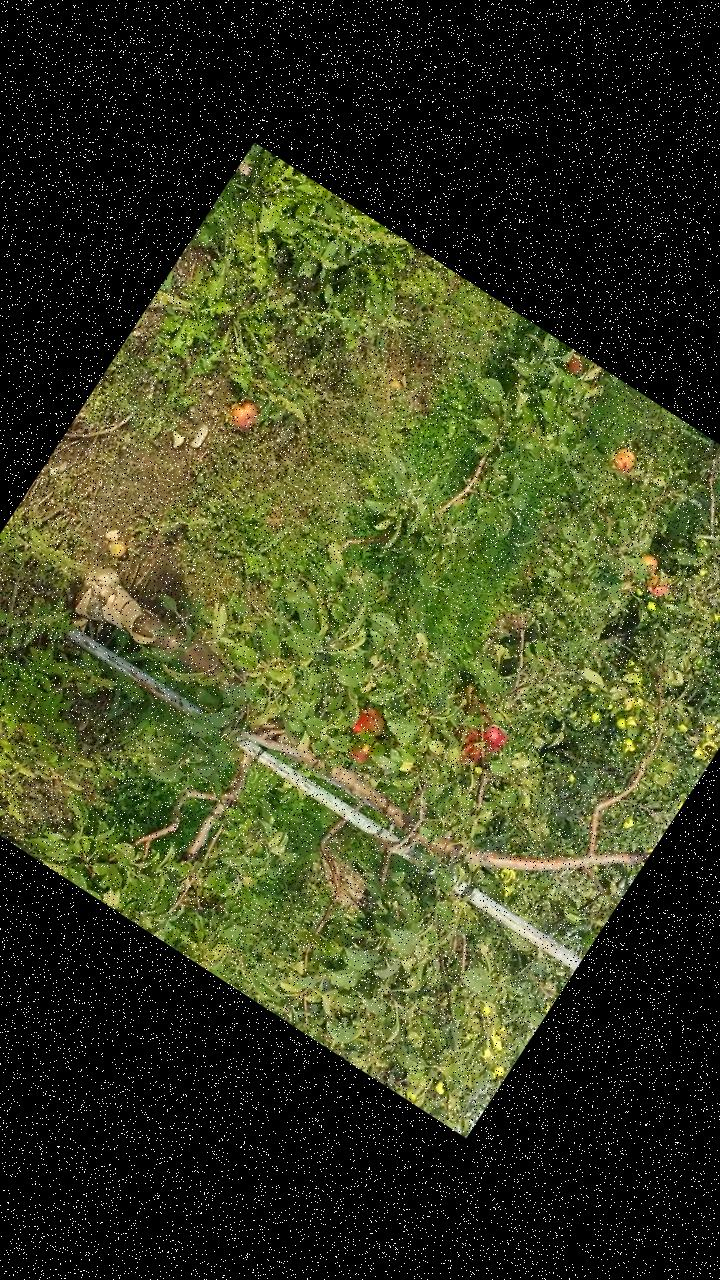Apple: (450, 723, 495, 772), (348, 703, 390, 745), (608, 444, 640, 476), (478, 721, 510, 752), (345, 736, 374, 765), (636, 548, 662, 573), (562, 354, 589, 378), (645, 578, 670, 602)
